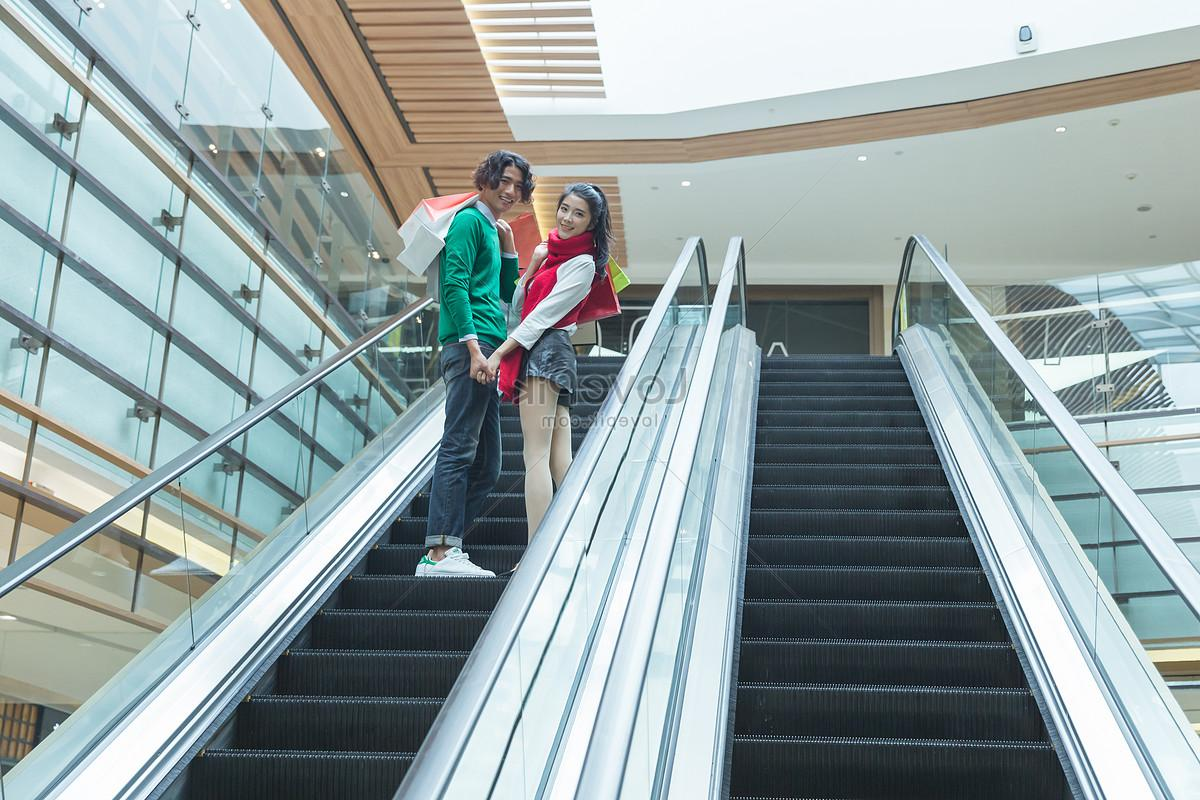long sleeve shirt: (512, 253, 602, 352)
skirt: (518, 330, 582, 405)
sweater: (434, 209, 509, 347)
trousers: (423, 337, 506, 552)
